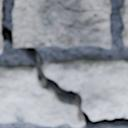brick: (13, 0, 110, 47), (121, 0, 127, 45), (0, 35, 2, 52)
broken_brick: (0, 66, 83, 127), (44, 59, 127, 118)
crack: (0, 0, 127, 127), (57, 1, 110, 14)
